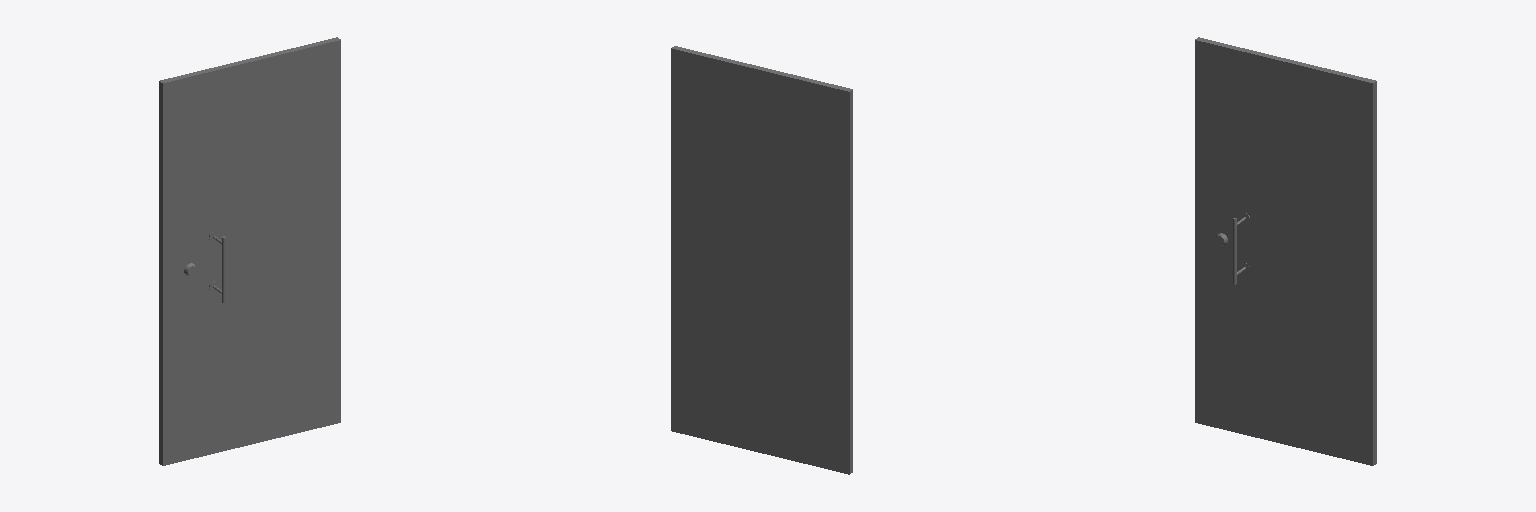
Rendered from door.obj.
3 renders of one model, left to right at view 1: azimuth 30°, elevation 25°; view 2: azimuth 150°, elevation 25°; view 3: azimuth 330°, elevation 25°, orthographic.
Visible parts, largest first — view 1: pCube1; view 2: pCube1; view 3: pCube1.
Part boxes in pixels (bbox=[...]): pCube1: bbox=[159, 37, 340, 465]; pCube1: bbox=[671, 46, 852, 474]; pCube1: bbox=[1195, 37, 1376, 465].
Size of the model in its own units: 11.08 by 22.7 by 1.64.